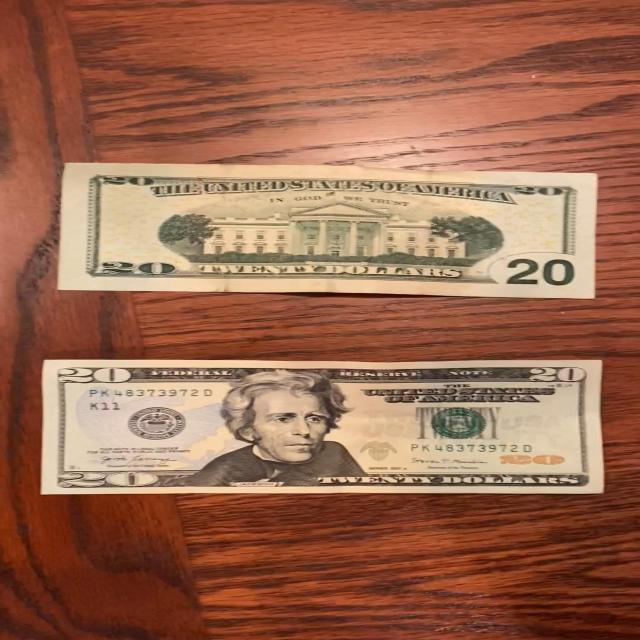20-Back: (54, 157, 594, 302)
20-Front: (35, 355, 606, 498)
